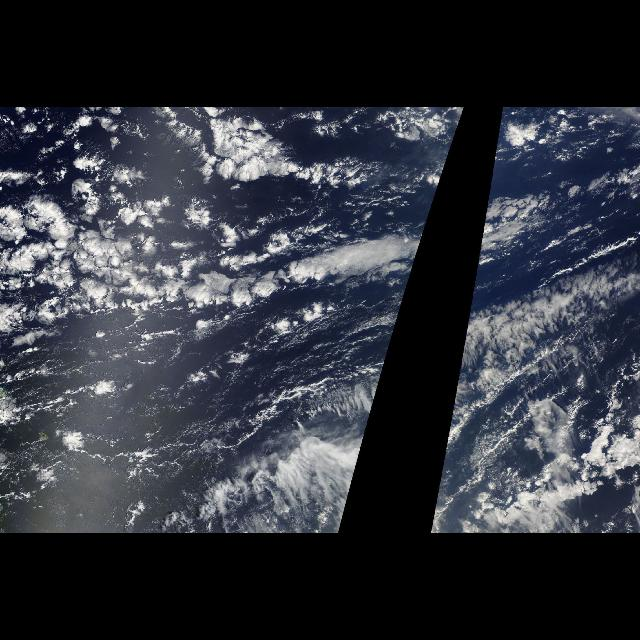Fish: (448, 262, 640, 423), (298, 262, 416, 423)
Flower: (0, 126, 348, 340)
